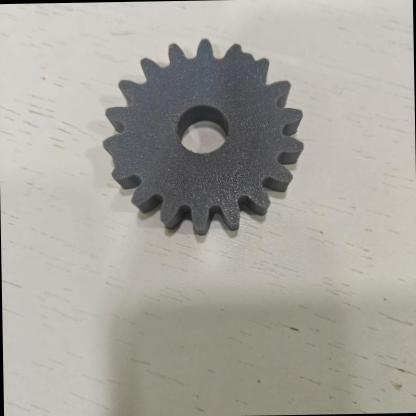defect: (209, 29, 282, 99), (90, 109, 149, 192)
gear: (61, 17, 327, 258)
